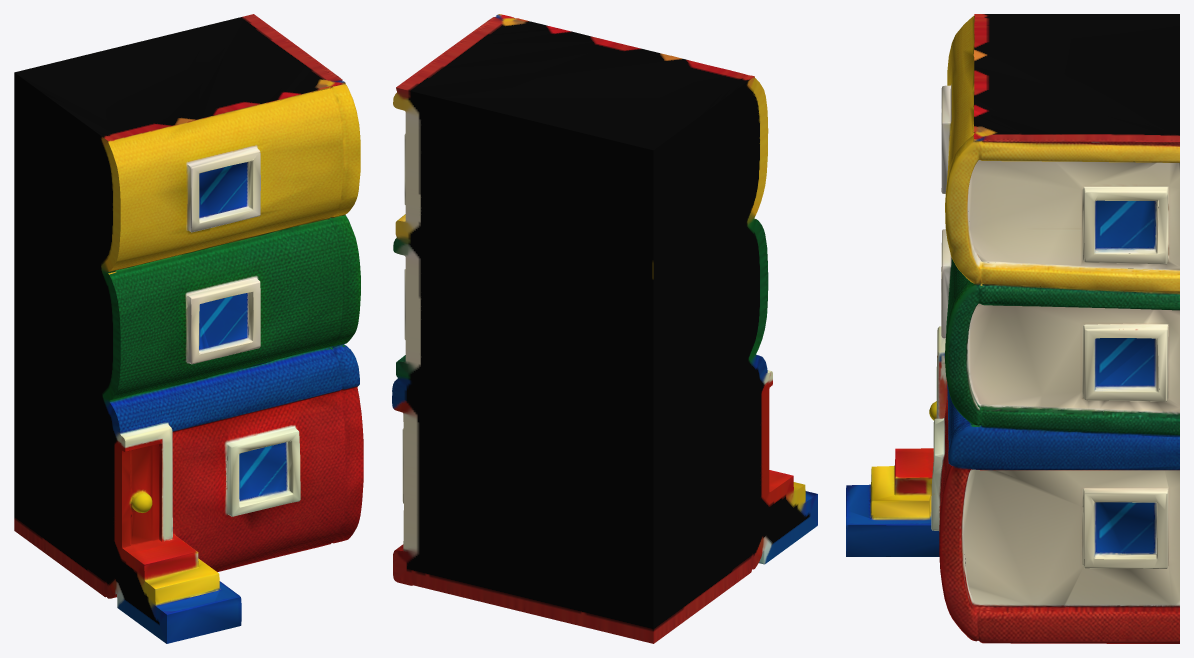
Rendered from 2-ground-floor-front-right.fbx.
The picture shows the model from 3 angles, left to right: view 1: azimuth 30°, elevation 25°; view 2: azimuth 150°, elevation 25°; view 3: azimuth 270°, elevation 25°; orthographic projection. The views are drawn at different scales.
Parts seen in each view (by area): view 1: ground-floor-front-right; view 2: ground-floor-front-right; view 3: ground-floor-front-right.
Boxes of the visible parts, x1,y1,x2,y2 form: ground-floor-front-right: (14,14,363,643); ground-floor-front-right: (392,14,817,643); ground-floor-front-right: (846,14,1179,643).
Size of the model in its own units: 5046 by 9119 by 5481.
Materials: 1 (1 with a texture image).
